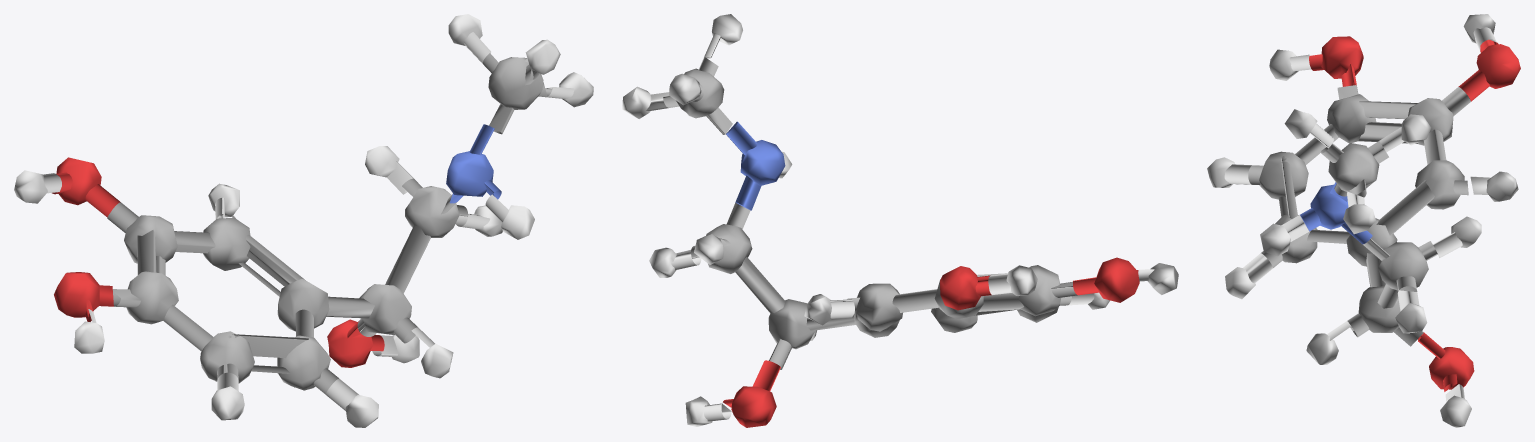
The model's file is harmons.fbx.
3 views of the same model, side by side, from view 1: azimuth 30°, elevation 25°; view 2: azimuth 150°, elevation 25°; view 3: azimuth 270°, elevation 25° (orthographic). The views are drawn at different scales.
Visible parts, largest first — view 1: hormone; view 2: hormone; view 3: hormone.
Boxes of the visible parts, box(x1,y1,x2,y2) form: hormone: box(14, 14, 593, 427); hormone: box(622, 14, 1178, 427); hormone: box(1207, 14, 1520, 427).
Bounding box in the file's own units: 48.19 × 30.59 × 25.46.
